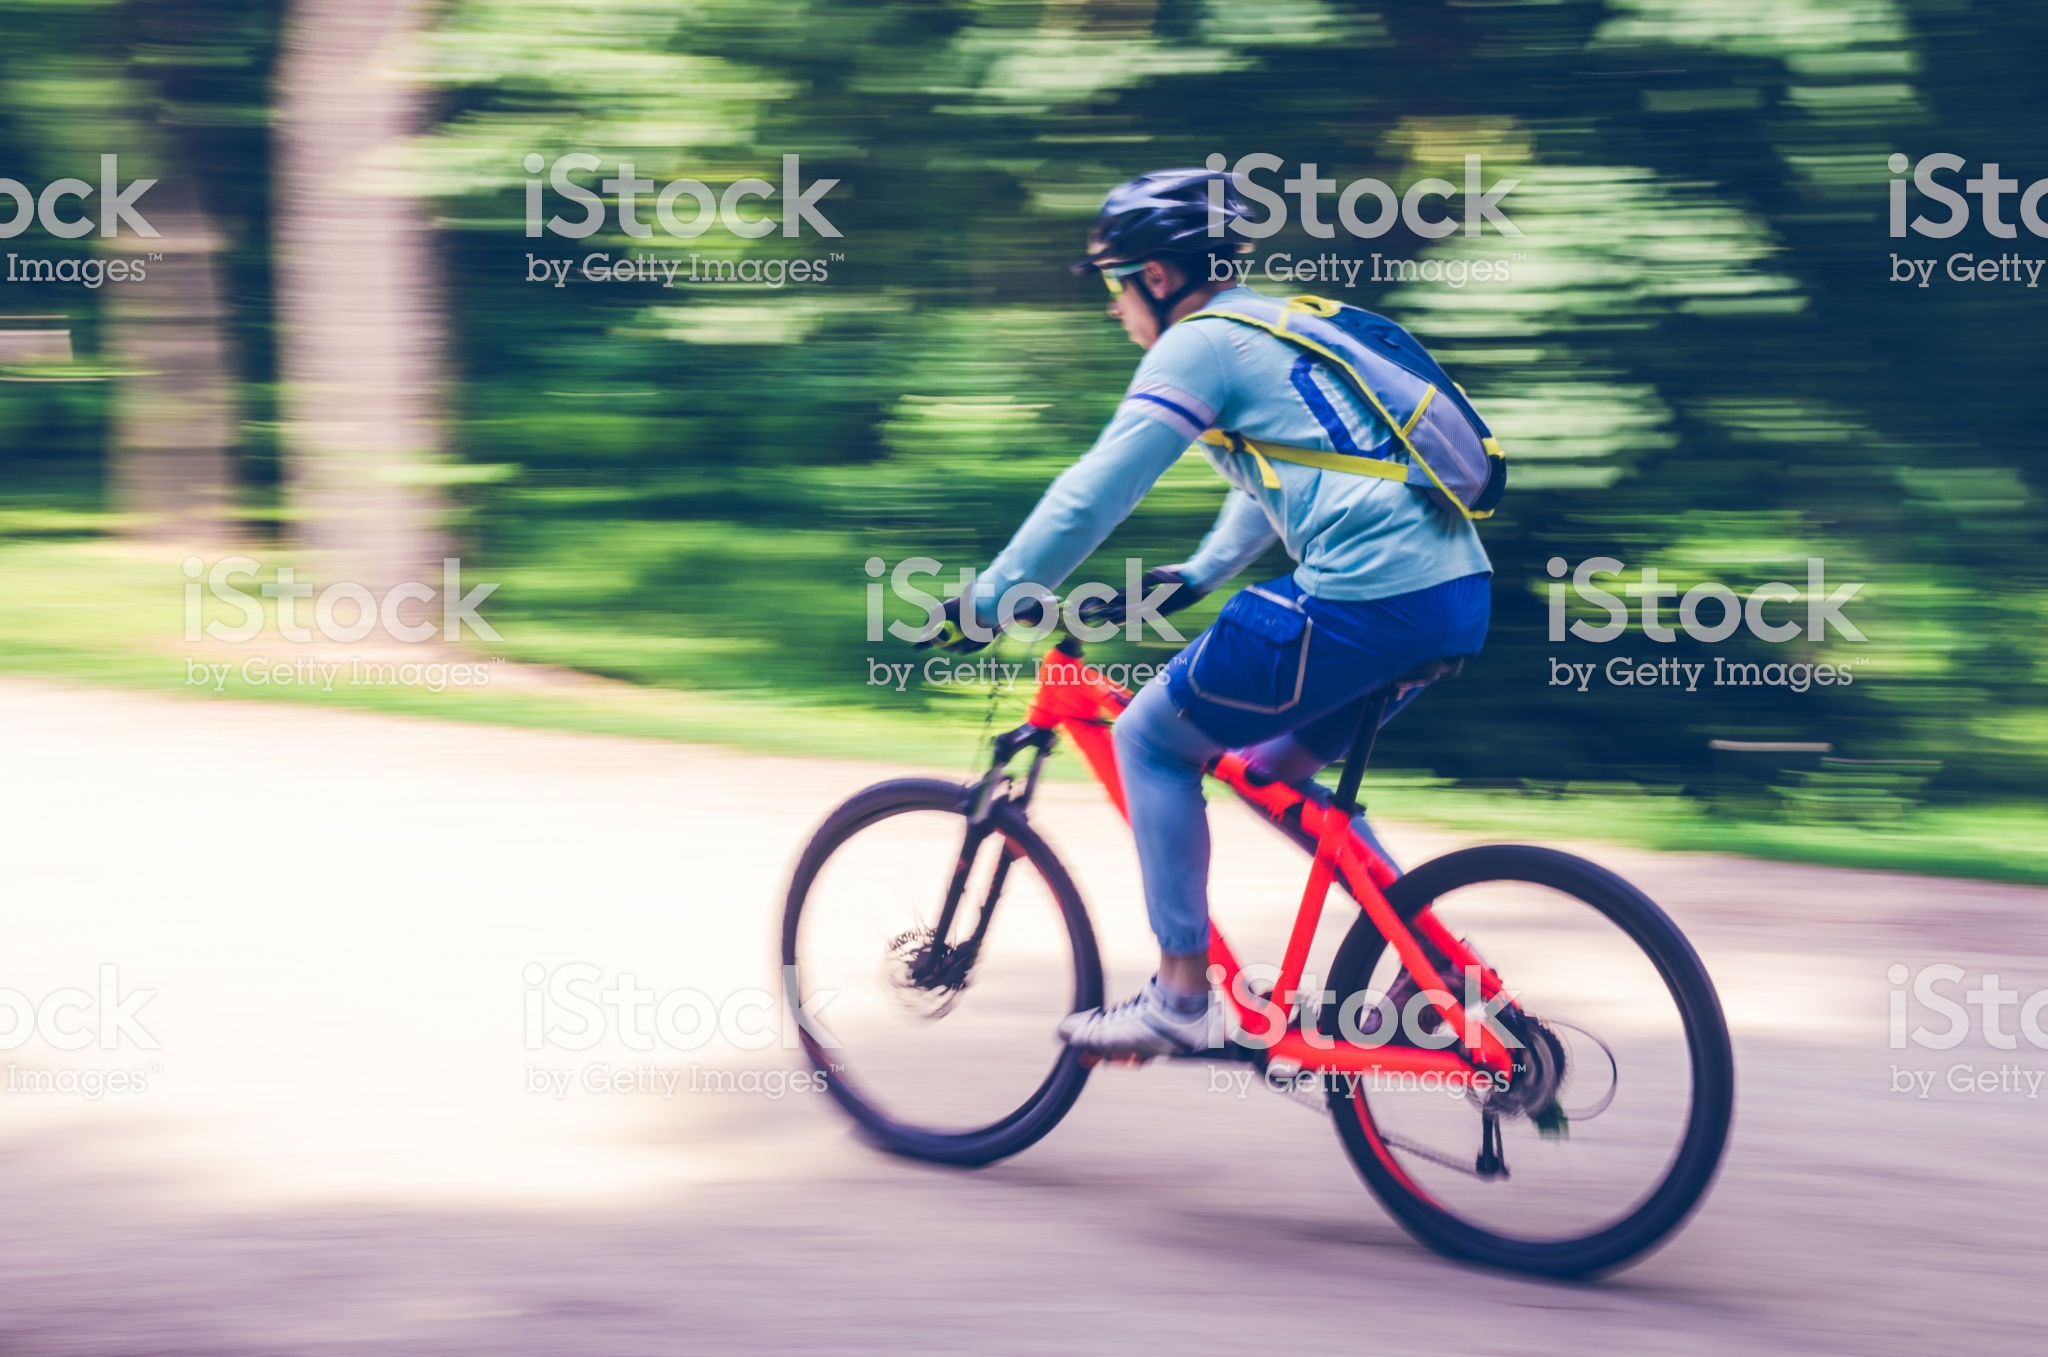helmet: (1041, 161, 1243, 282)
